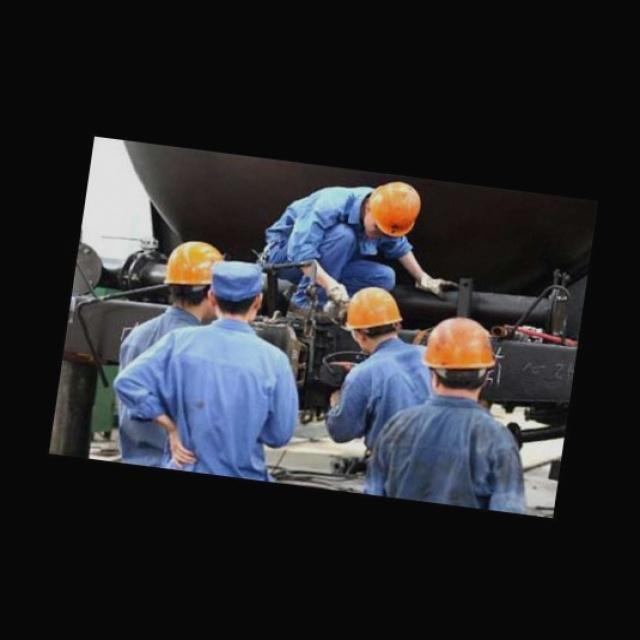helmet: (422, 314, 497, 372), (344, 278, 406, 336), (165, 234, 226, 292), (364, 183, 424, 241)
